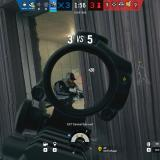Character: (52, 72, 85, 111)
Friend_label: (136, 61, 144, 66)
Head: (65, 72, 76, 87)
